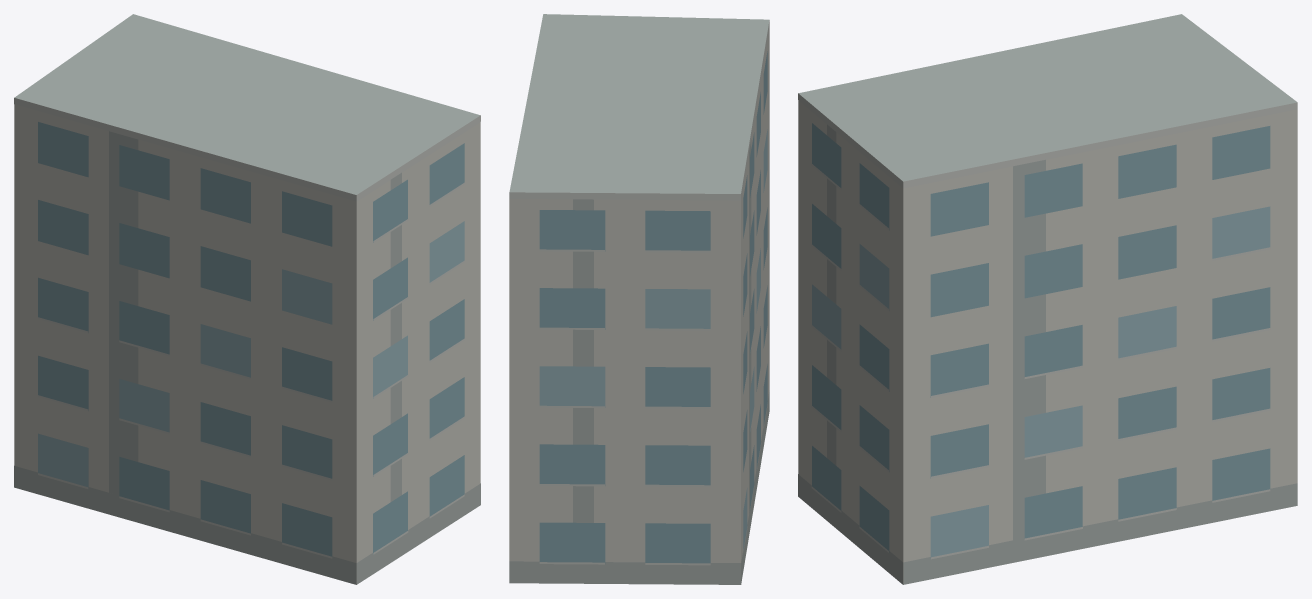
File: survey-upis-32935471.glb
3 views of the same model, side by side, from view 1: azimuth 30°, elevation 25°; view 2: azimuth 150°, elevation 25°; view 3: azimuth 270°, elevation 25° (orthographic). The views are drawn at different scales.
Visible parts, largest first — view 1: survey-upis-32935471.tmp; view 2: survey-upis-32935471.tmp; view 3: survey-upis-32935471.tmp.
Boxes of the visible parts, x1,y1,x2,y2 form: survey-upis-32935471.tmp: (14, 14, 480, 584); survey-upis-32935471.tmp: (509, 14, 769, 584); survey-upis-32935471.tmp: (798, 14, 1297, 584).
Size of the model in its own units: 13.02 by 14.6 by 16.4.
